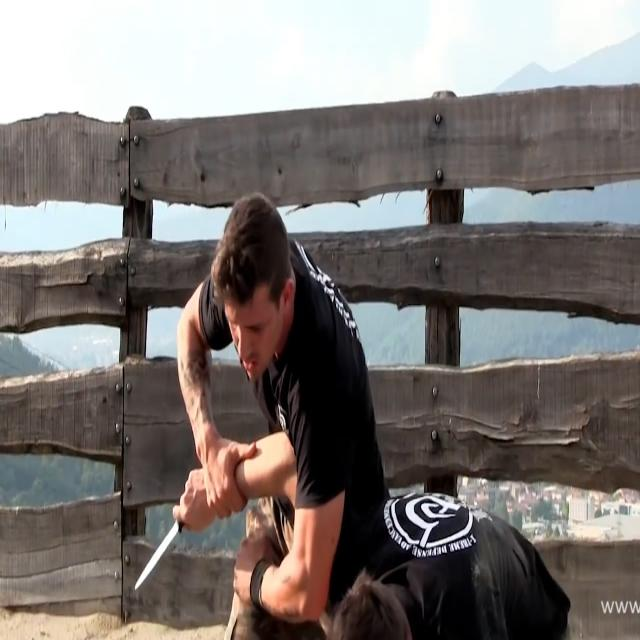knife: (134, 512, 186, 598)
